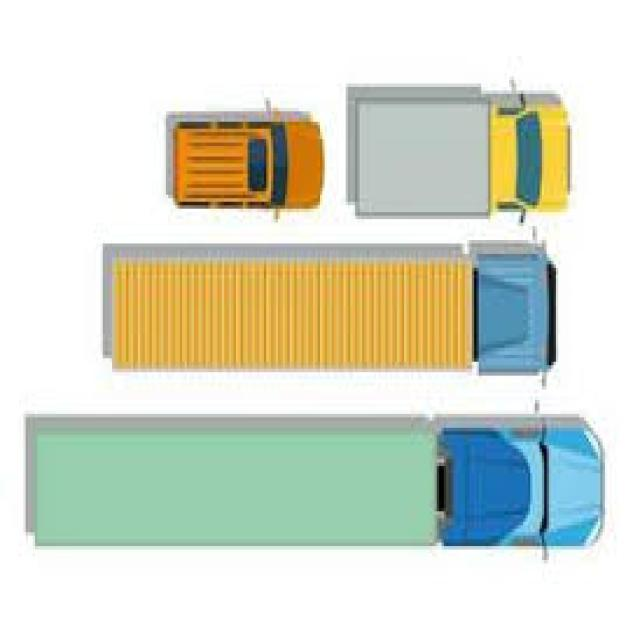truck: (34, 429, 605, 548), (109, 252, 554, 378), (354, 95, 574, 217)
